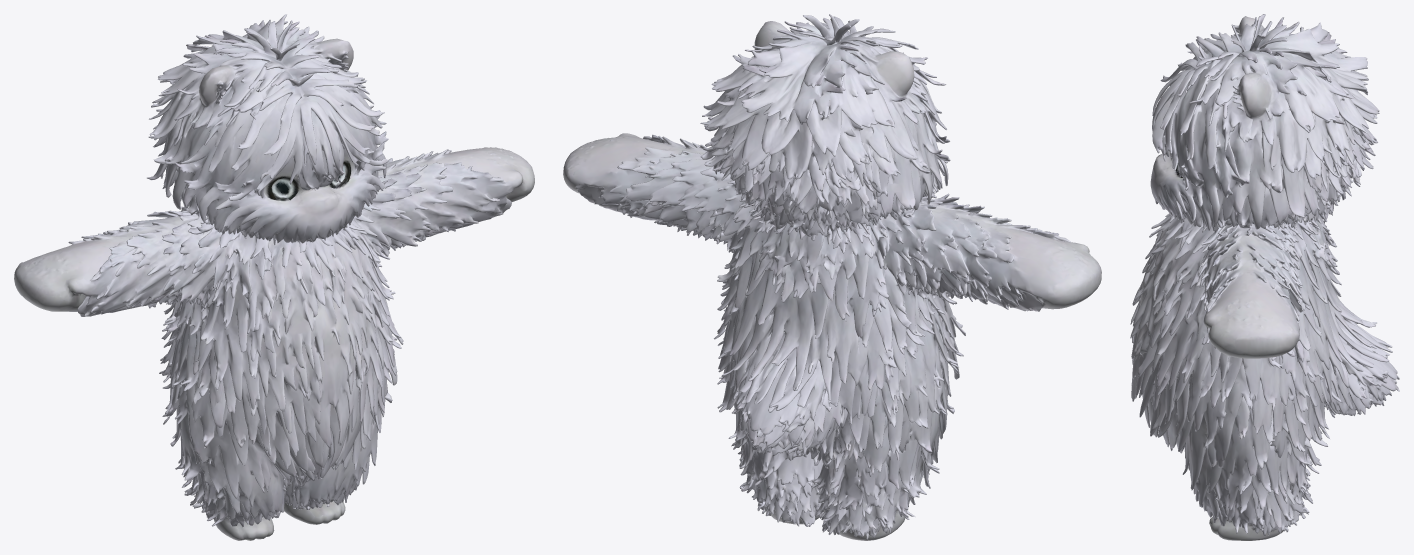
The model's file is muse-san-winter-1024-seed42.glb.
3 renders of one model, left to right at view 1: azimuth 30°, elevation 25°; view 2: azimuth 150°, elevation 25°; view 3: azimuth 270°, elevation 25°, orthographic. The views are drawn at different scales.
Bounding box in the file's own units: 1 × 0.9322 × 0.4641.
1 material, 1 textured.
